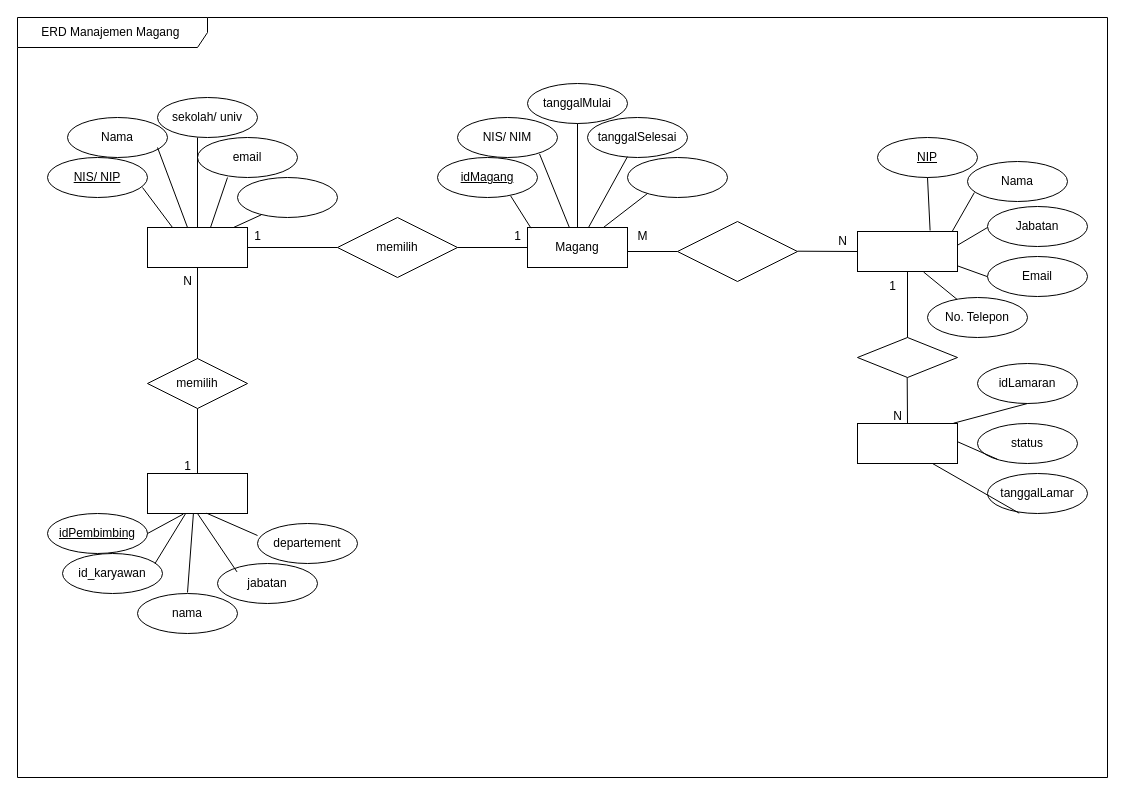
Some shapes in this 1125 by 795 pixel diagram are drawn without their labels. The centre of each missing label's shape, as x and y in pixels:
"Desc" belongs at pixel 677 177.
"Dikelola" belongs at pixel 737 251.
"HRD" belongs at pixel 907 251.
"jurusan" belongs at pixel 287 197.
"Lamaran" belongs at pixel 907 443.
"Pembimbing magang" belongs at pixel 197 493.
"persetujuan" belongs at pixel 907 357.
"Siswa/ mahasiswa" belongs at pixel 197 247.
